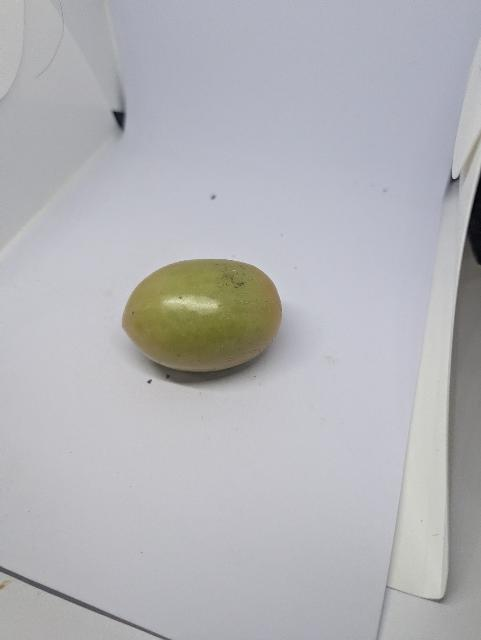breaker: (123, 259, 282, 371)
